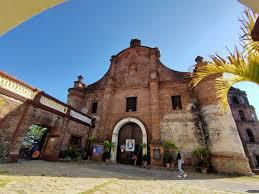santa_maria_church_santa_maria_ilocos_sur: (63, 34, 252, 175)
unfinished_paint: (160, 100, 243, 157)
